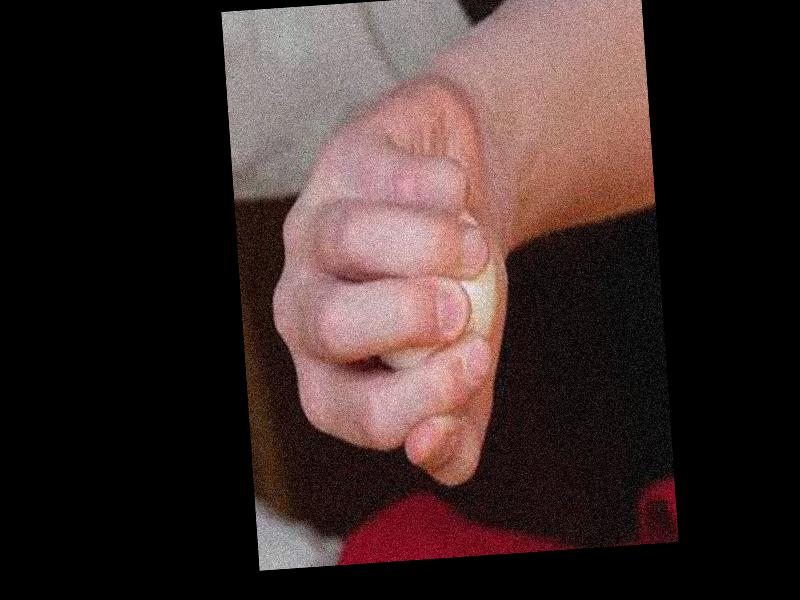Eggs: (367, 208, 504, 390)
